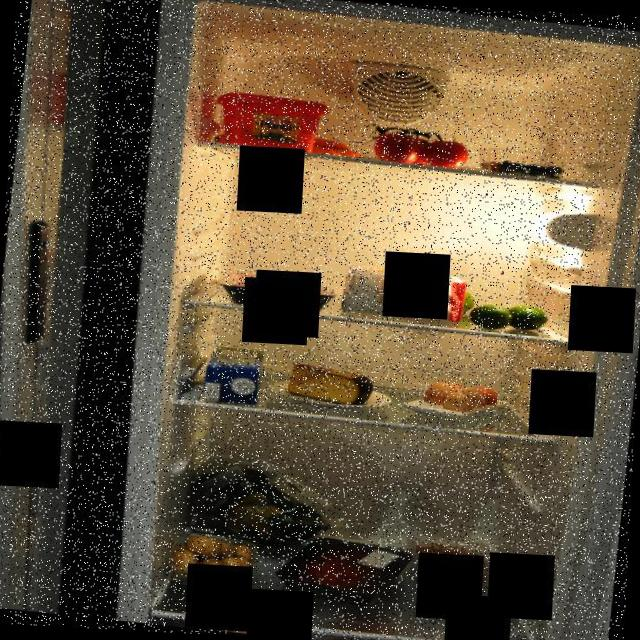Carne vacuno: (272, 531, 418, 613), (215, 269, 343, 315)
Gambas/Langostinos: (409, 540, 496, 590)
Huevos: (419, 376, 504, 421)
Leche: (201, 344, 269, 409)
Mantequilla: (208, 86, 332, 156)
Patata: (167, 532, 257, 594)
Queso: (282, 360, 377, 409)
Tomate: (362, 116, 474, 172)
Zanahoria: (210, 124, 366, 160)
blueberries: (474, 140, 580, 182)
spinach: (186, 455, 336, 562)
sugar: (333, 262, 474, 328)
